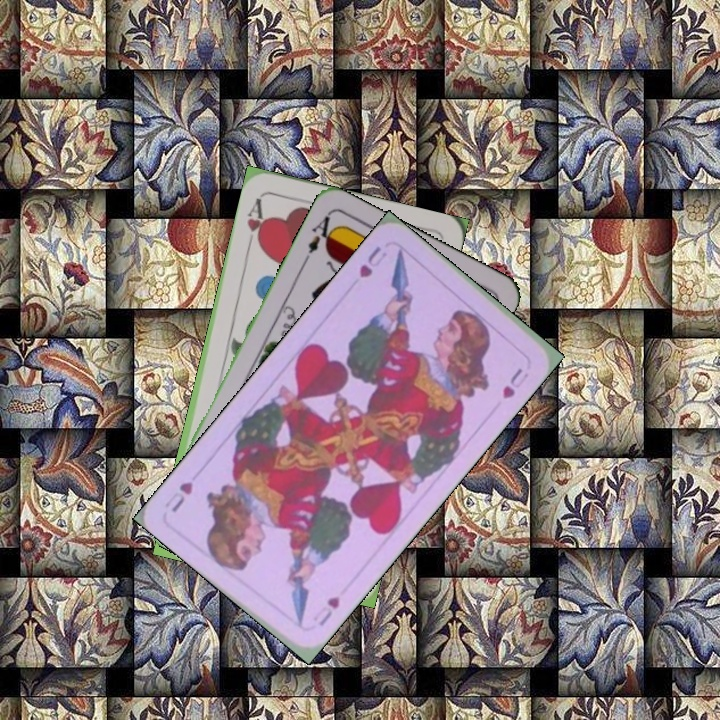EA: (303, 210, 340, 256)
HA: (242, 193, 269, 252)
HU: (355, 241, 390, 281), (315, 592, 343, 629)
